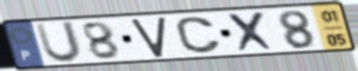8: (274, 8, 317, 50), (82, 20, 122, 61)
C: (174, 15, 224, 55)
U: (32, 19, 85, 65)
V: (128, 15, 167, 59)
X: (225, 10, 279, 54)
